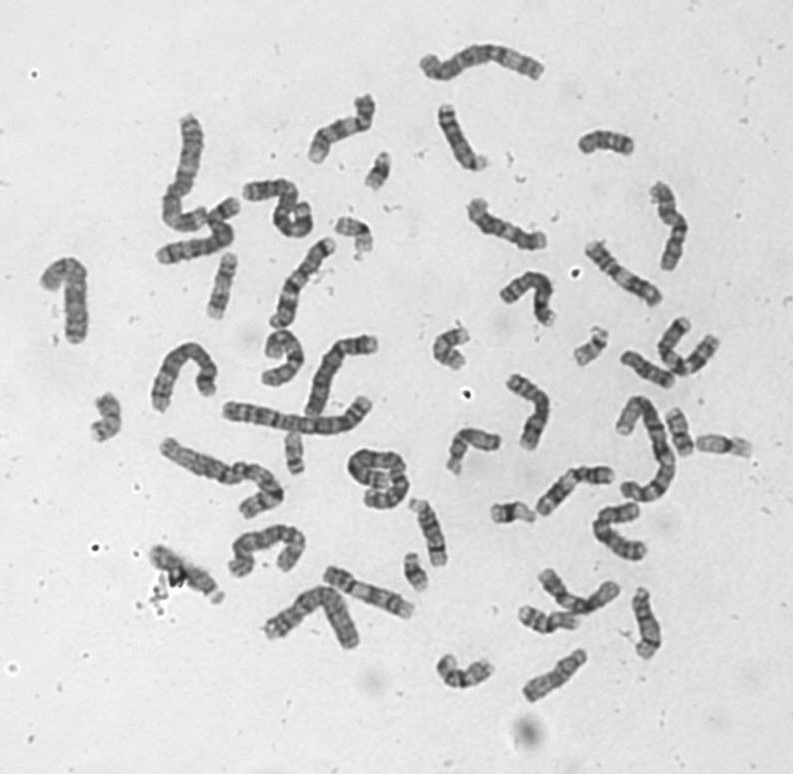chromosomes: (156, 435, 291, 524), (420, 34, 560, 101), (607, 391, 681, 504), (257, 582, 368, 654), (152, 194, 249, 273), (303, 330, 385, 421), (262, 234, 338, 332), (575, 233, 668, 313), (220, 390, 382, 434), (160, 109, 214, 241), (296, 86, 376, 174), (140, 332, 222, 417), (36, 247, 101, 349), (432, 93, 500, 187), (224, 520, 315, 587), (321, 560, 418, 622), (151, 541, 232, 610), (344, 439, 417, 514), (531, 460, 619, 522), (468, 196, 558, 256), (645, 172, 698, 272), (239, 172, 316, 239), (531, 562, 622, 618), (518, 648, 597, 710), (502, 369, 556, 459), (497, 267, 564, 339), (658, 309, 720, 385), (409, 496, 463, 578), (590, 500, 652, 570), (562, 120, 645, 164), (435, 650, 506, 701), (440, 426, 506, 477), (630, 582, 671, 664), (205, 248, 247, 324), (337, 212, 383, 274), (512, 600, 586, 637), (259, 326, 303, 388), (429, 324, 480, 373), (623, 348, 679, 390), (659, 408, 701, 463), (568, 324, 616, 369), (88, 385, 122, 448), (396, 545, 435, 596), (485, 497, 542, 531), (690, 434, 761, 461), (362, 149, 399, 198), (282, 422, 309, 484)
